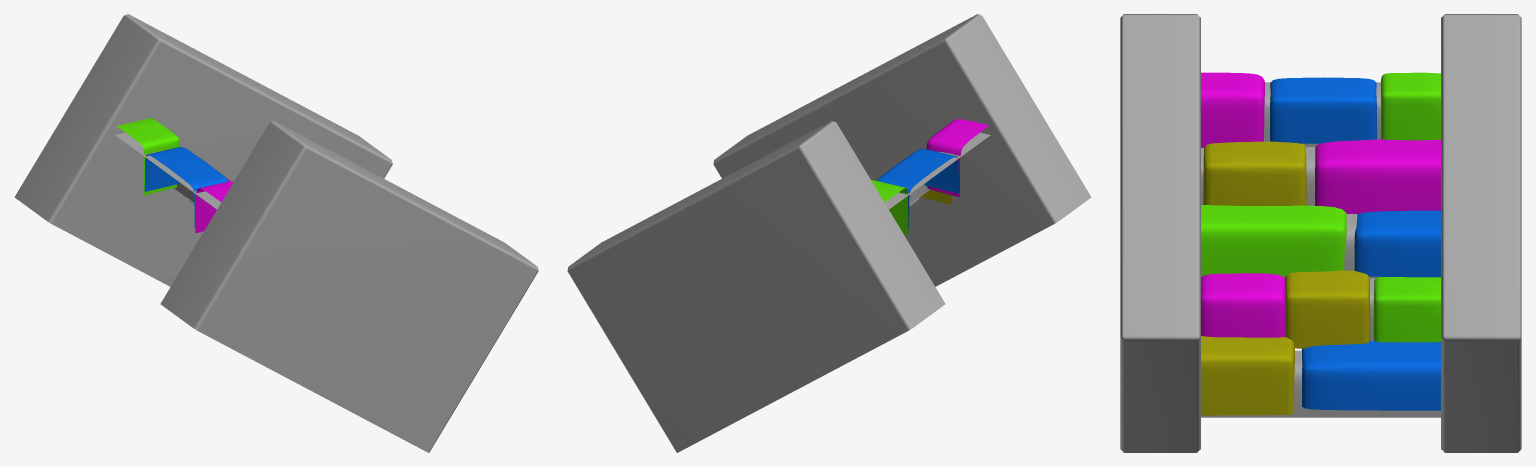
File: Stairs.fbx
3 views of the same model, side by side, from view 1: azimuth 30°, elevation 25°; view 2: azimuth 150°, elevation 25°; view 3: azimuth 270°, elevation 25° (orthographic). The views are drawn at different scales.
Parts seen in each view (by area): view 1: group22; view 2: group22; view 3: group22.
Boxes of the visible parts, left/top/right/bottom form: group22: left=14, top=14, right=538, bottom=452; group22: left=567, top=14, right=1091, bottom=452; group22: left=1120, top=14, right=1521, bottom=452.
Bounding box in the file's own units: 531 × 496 × 486.
